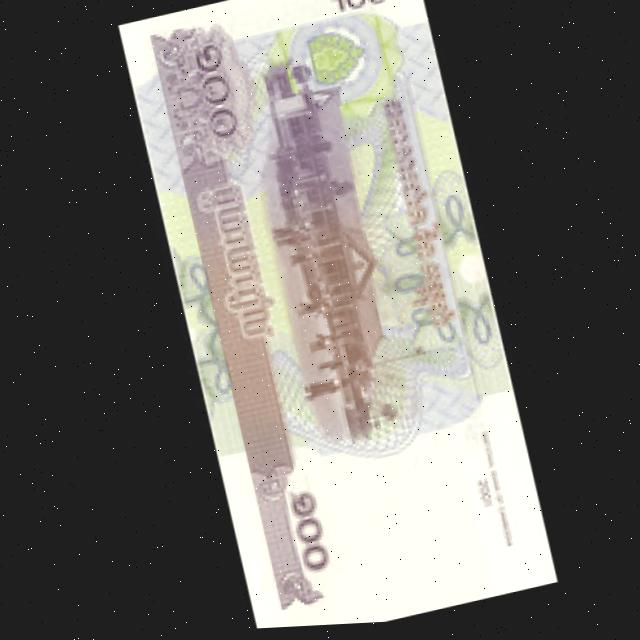banknote: (118, 0, 551, 635), (318, 0, 400, 30)
